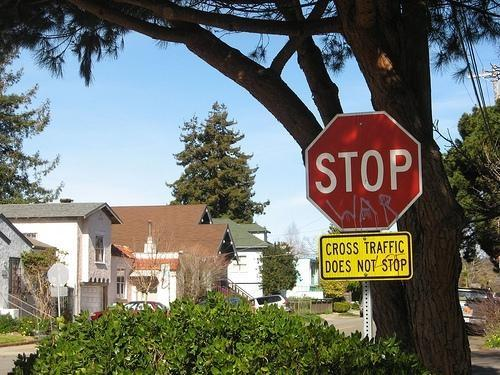car: (457, 286, 494, 336), (122, 300, 170, 320), (249, 294, 293, 312), (493, 292, 500, 300)
